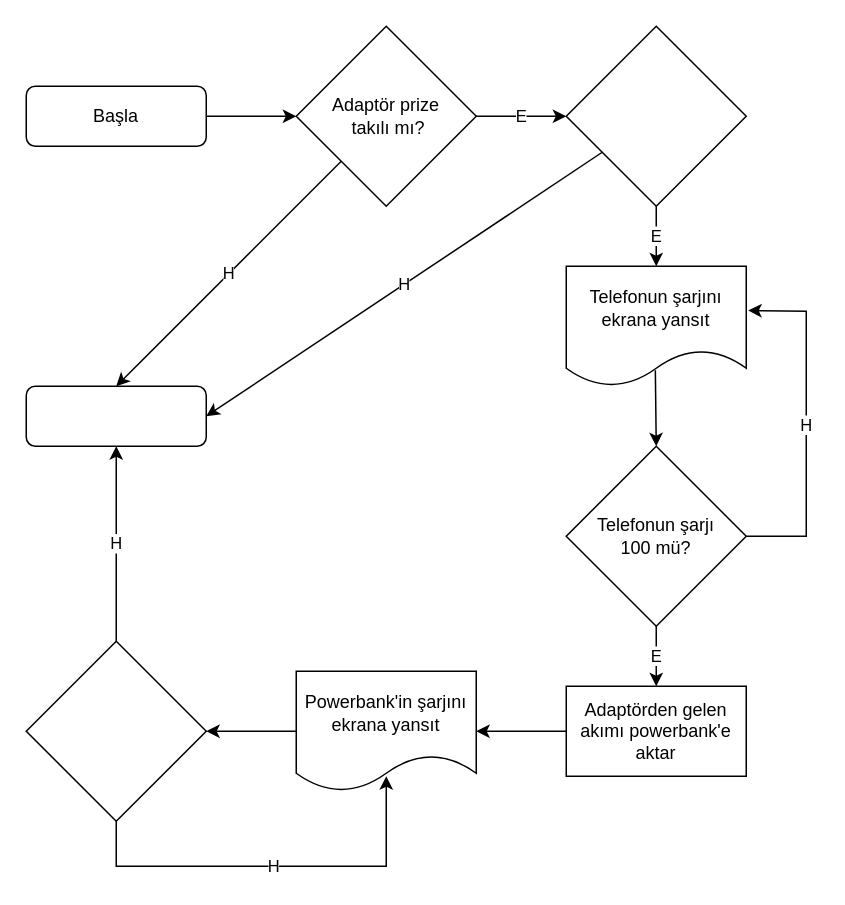
The diagram is 845 pixels wide and 905 high, and some of its shapes have lost their labels. The box of each missing label's shape, as (x1, y1, x2, y2) in pixels:
Bitir: (25, 385, 206, 446)
Powerbank'in şarjı 100 mü?: (25, 640, 206, 821)
Telefon şarja takılı mı?: (565, 25, 746, 206)
